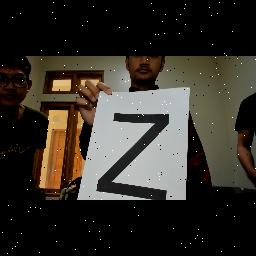z: (94, 108, 176, 200)
